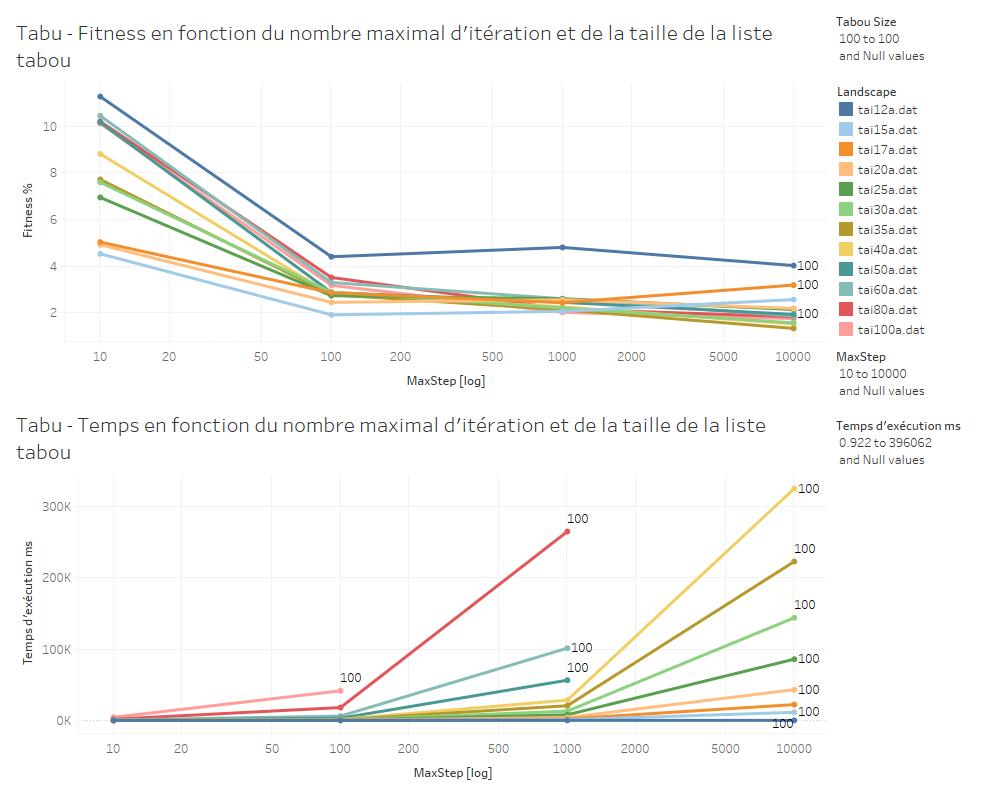

This screenshot's page, from the dashboard's own definition file:
{"tool":"tableau","page":{"name":"Tabou","canvas":[1000,800],"ordinal":3},"visuals":[{"type":"worksheet","title":"Tabu - Fitness","mark":"Line","rows":["Calculation_1762314897165828103"],"cols":["F5"],"box":[8,8,824,392]},{"type":"filter","title":"Tabu - Fitness","param":"[federated.03turzu08qkt3f10d8nm71bupa7h].[none:F7:qk]","box":[832,8,160,69]},{"type":"legend","title":"Tabu - Fitness","param":"[federated.03turzu08qkt3f10d8nm71bupa7h].[none:F1:nk]","box":[832,77,160,266]},{"type":"filter","title":"Tabu - Temps","param":"[federated.03turzu08qkt3f10d8nm71bupa7h].[none:F5:qk]","box":[832,343,160,69]},{"type":"worksheet","title":"Tabu - Temps","mark":"Line","rows":["Calculation_1762314897165783046"],"cols":["F5"],"box":[8,400,824,392]}]}

Visuals, with their boxes in screenshot pixels (x1, y1, x2, y2), scaled from the page's 1000x800 canvas onto the 1000x800 screenshot:
"Tabu - Fitness" worksheet (Line marks): BBox(8, 8, 832, 400)
"Tabu - Fitness" filter: BBox(832, 8, 992, 77)
"Tabu - Fitness" legend: BBox(832, 77, 992, 343)
"Tabu - Temps" filter: BBox(832, 343, 992, 412)
"Tabu - Temps" worksheet (Line marks): BBox(8, 400, 832, 792)
